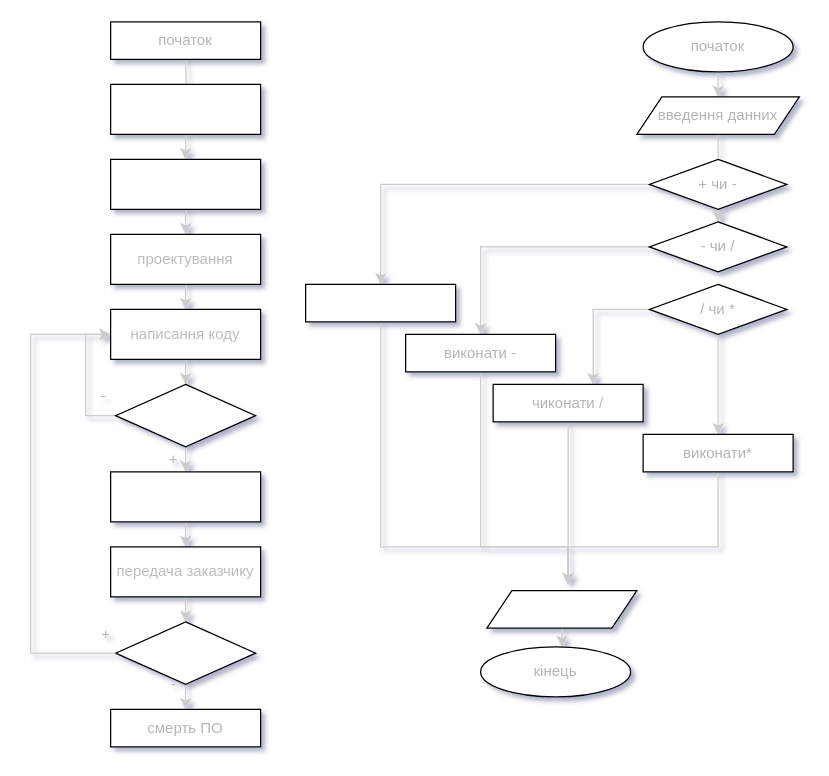
Image size: 829x776. Some labels were removed from this diagram. The box of each missing label's shape, as (x1, y1, x2, y2) in pixels:
аналітика: (109, 158, 261, 209)
вивести: (486, 589, 637, 628)
виконати +: (304, 283, 456, 322)
відділ збірки: (109, 471, 261, 522)
підтримка: (114, 621, 256, 684)
тестування: (114, 383, 256, 447)
ідея: (109, 83, 261, 134)
